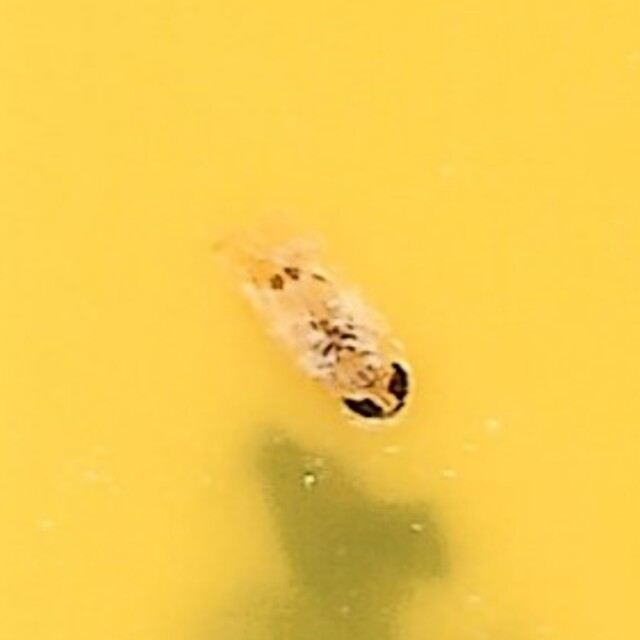Hemiptera: (228, 214, 412, 426)
